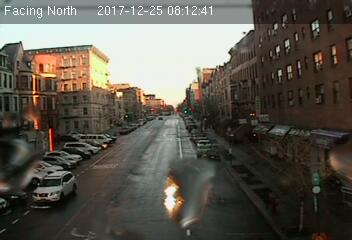car: (33, 171, 77, 204)
